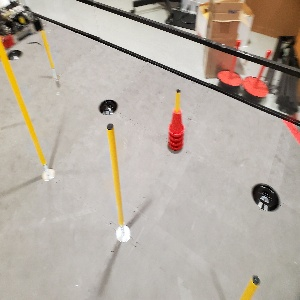Red_4: (165, 111, 187, 154)
